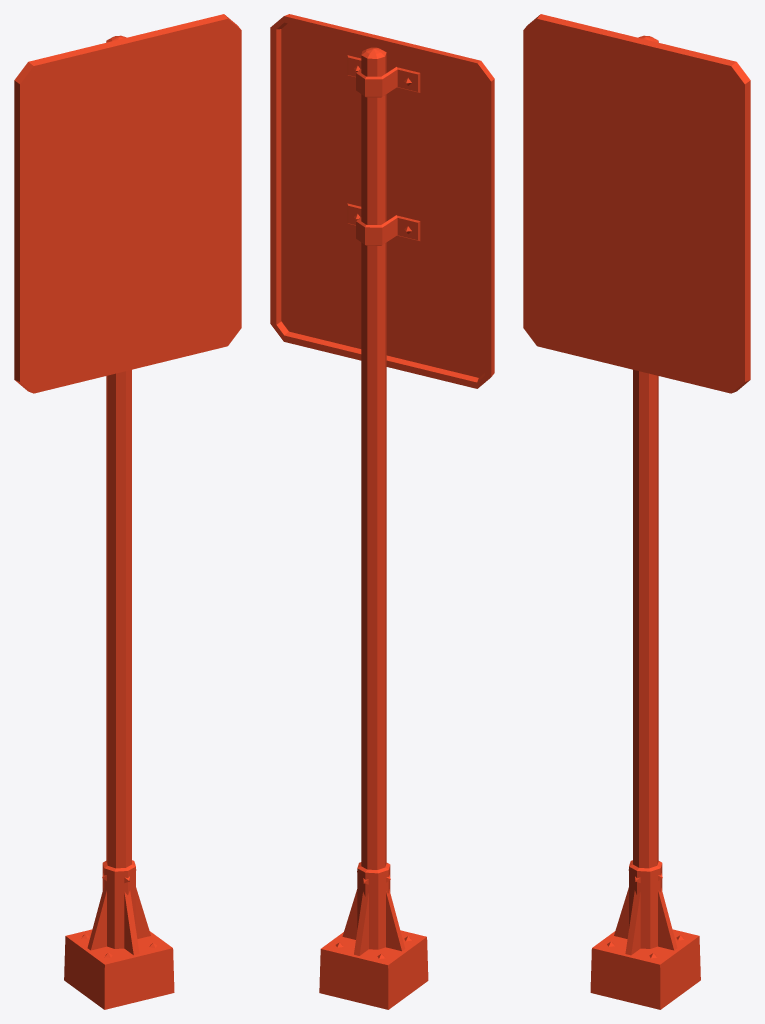
The model's file is SM_Sign_Speed_45_B_City.fbx.
The picture shows the model from 3 angles, left to right: view 1: azimuth 30°, elevation 25°; view 2: azimuth 150°, elevation 25°; view 3: azimuth 330°, elevation 25°; orthographic projection.
Visible parts, largest first — view 1: SM_Sign_Speed_45_B_City; view 2: SM_Sign_Speed_45_B_City; view 3: SM_Sign_Speed_45_B_City.
Boxes of the visible parts, left/top/right/bottom form: SM_Sign_Speed_45_B_City: left=14, top=14, right=241, bottom=1009; SM_Sign_Speed_45_B_City: left=270, top=14, right=494, bottom=1009; SM_Sign_Speed_45_B_City: left=523, top=14, right=750, bottom=1009.
Bounding box in the file's own units: 0.5876 × 2.39 × 0.1839.
